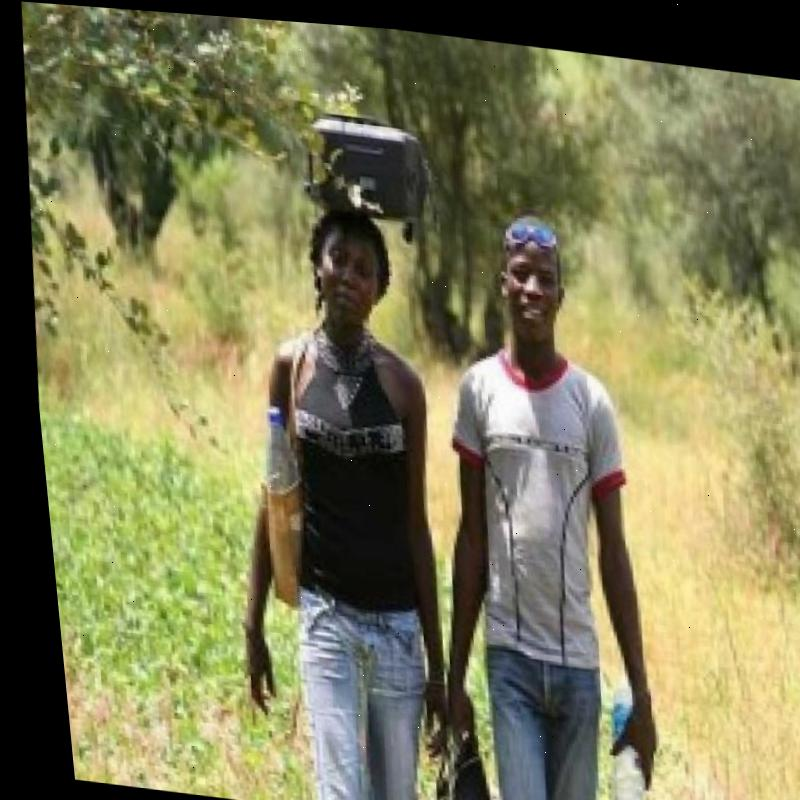botella: (584, 663, 641, 800), (250, 398, 293, 490)
